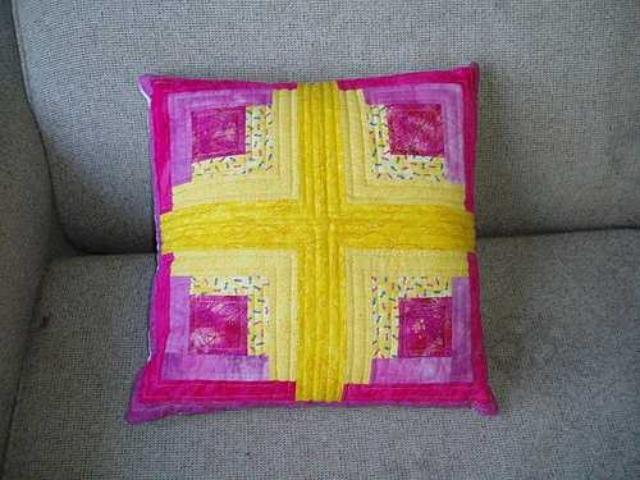pillow: (123, 62, 499, 424)
